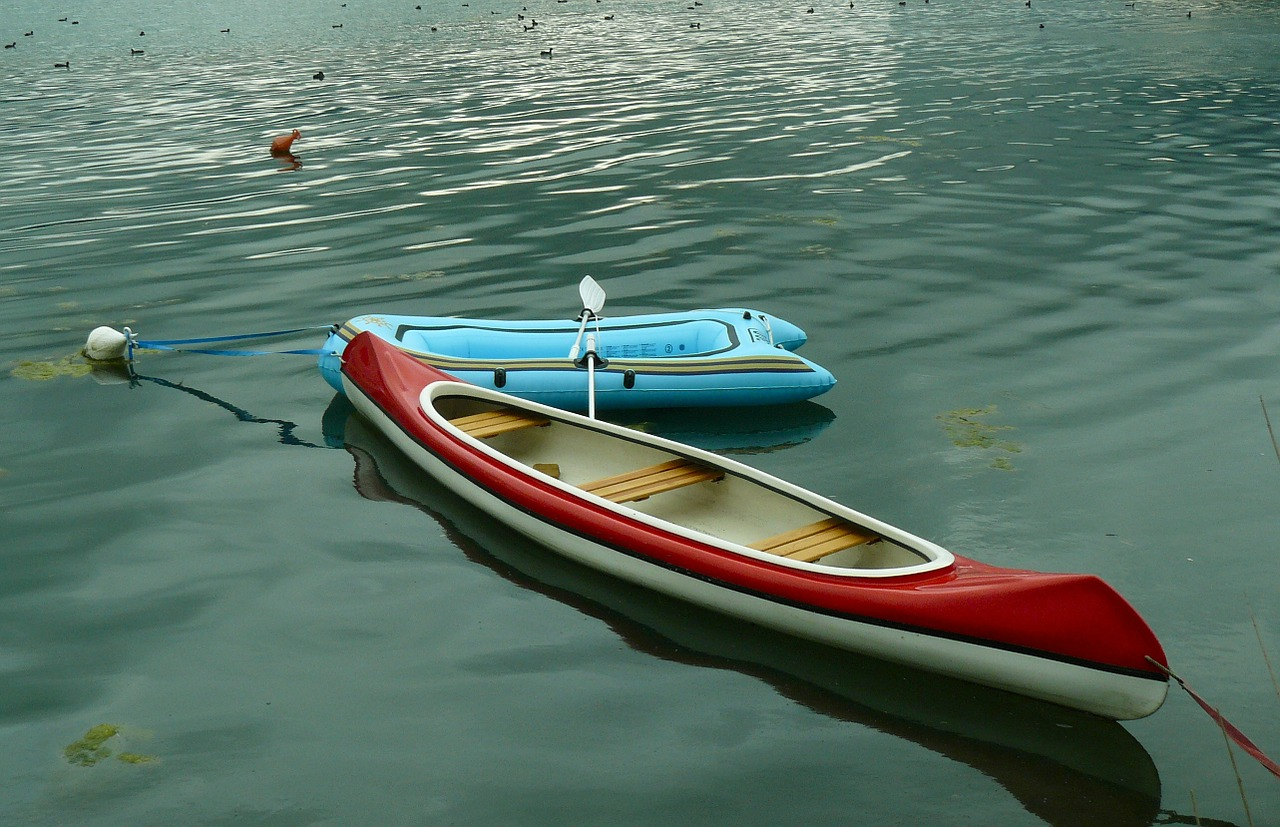kayak: (335, 326, 1176, 726)
